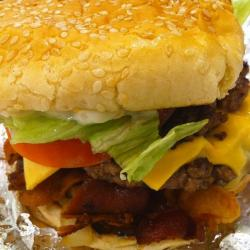burger: (1, 1, 241, 247)
